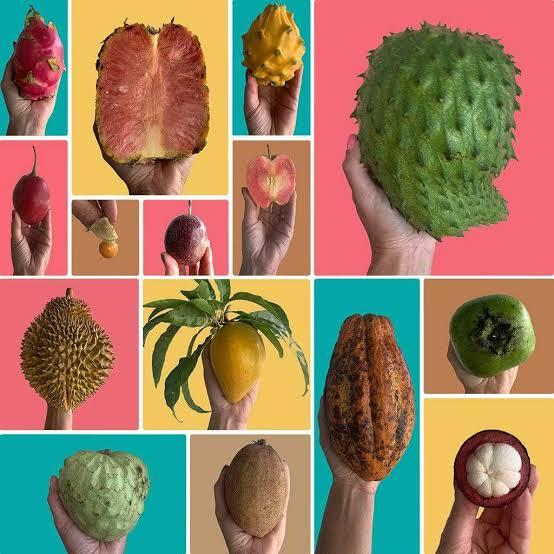chom_chom: (18, 295, 113, 411)
thanh_long: (12, 6, 64, 101)
xoai: (207, 319, 267, 404)
